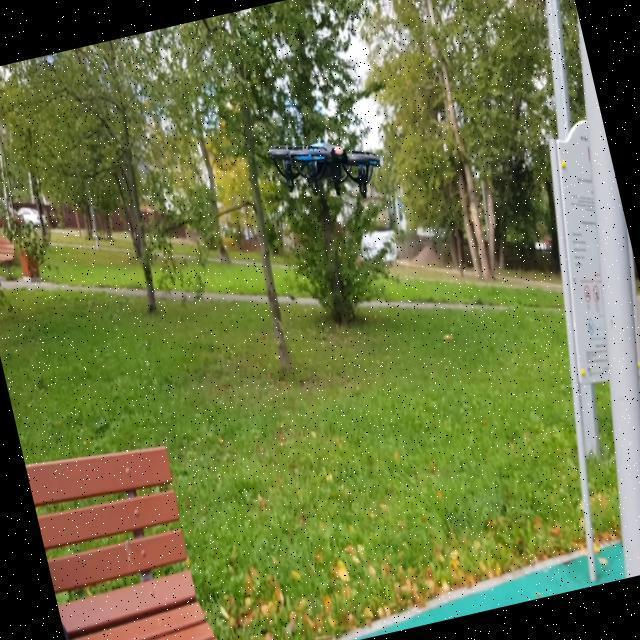Drons: (264, 120, 388, 218)
